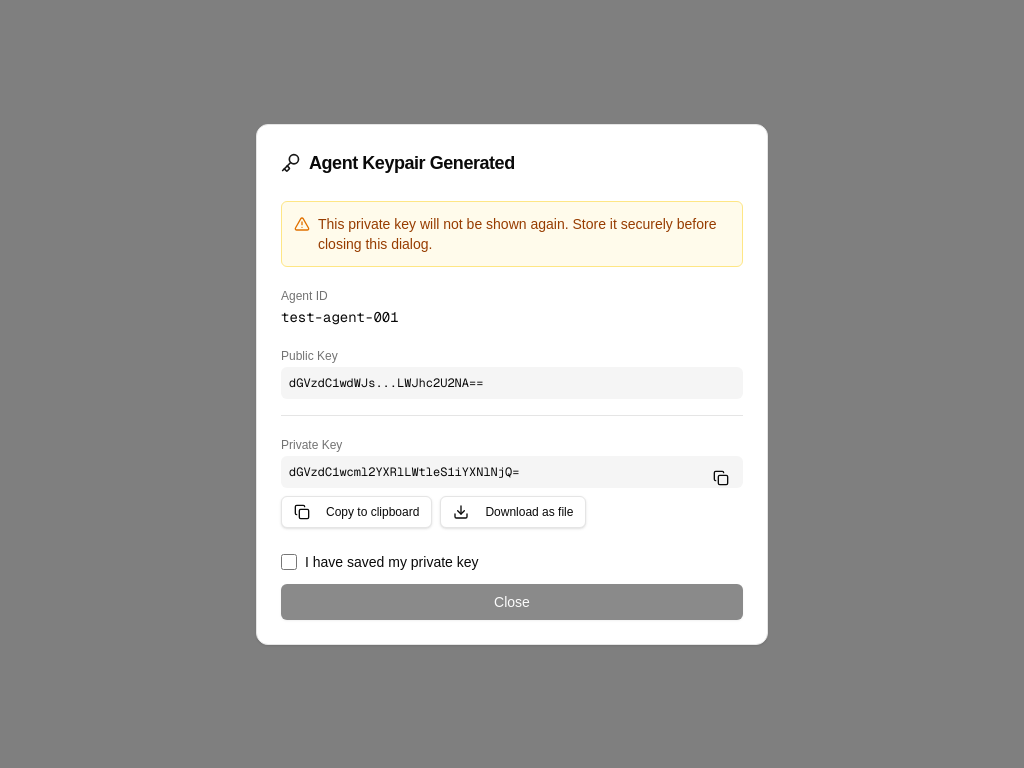
Test: PrivateKeyModal › enables Close button after checking the confirmation checkbox
Click the checkbox with test id "confirm-checkbox" at (289,562), box top-left (281, 554), bottom-right (297, 570)
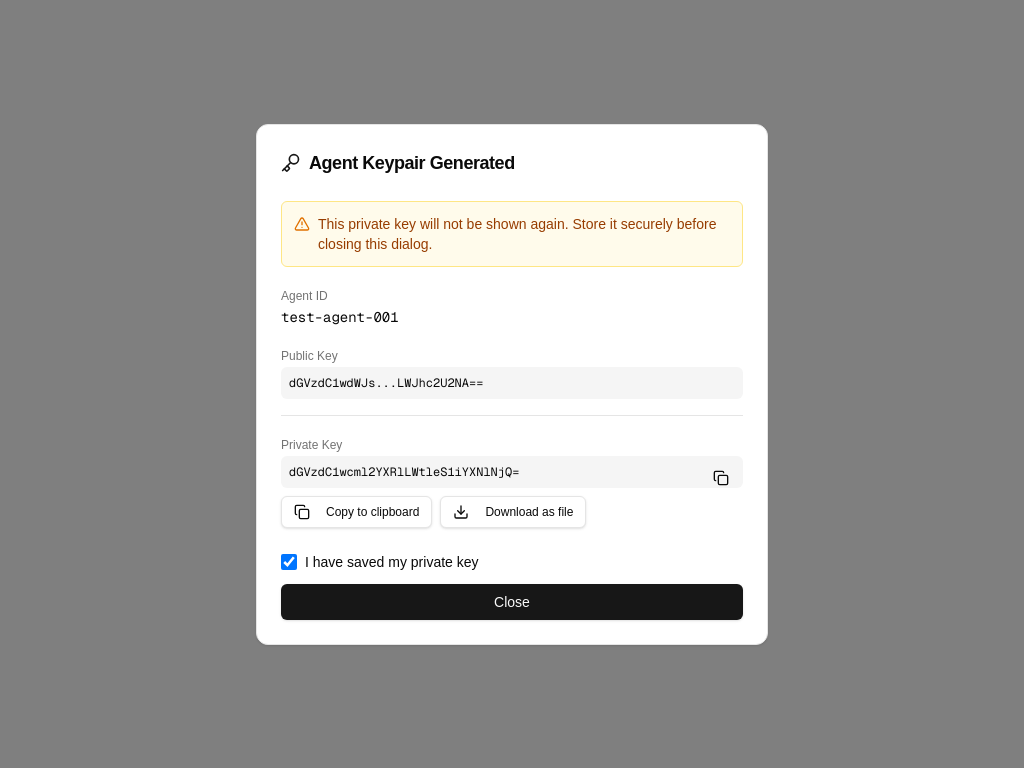
Expected: the button "Close" is enabled, top-left (281, 584), bottom-right (743, 620)
